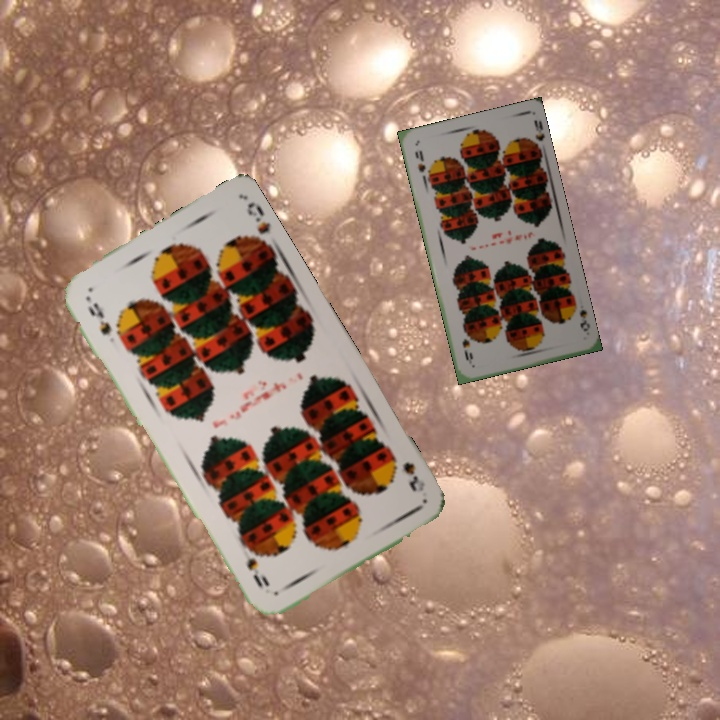S9: (385, 448, 428, 496), (83, 298, 114, 338), (567, 298, 593, 334), (411, 146, 432, 182)
